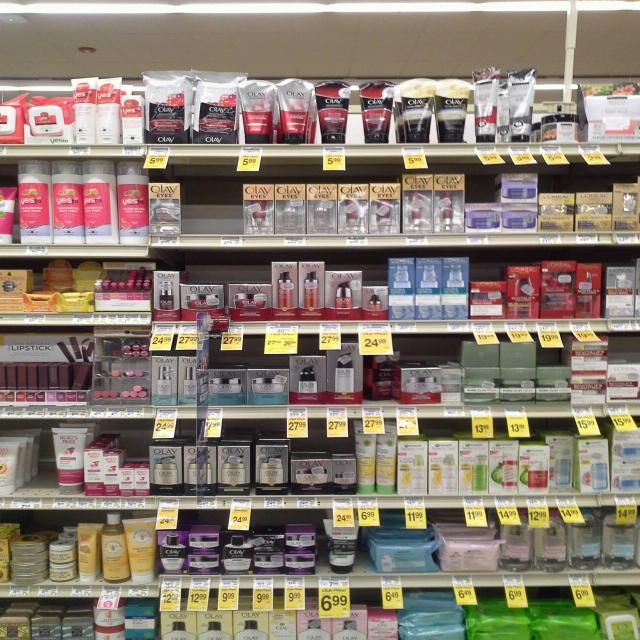empty: (182, 180, 244, 235), (39, 427, 52, 496)
